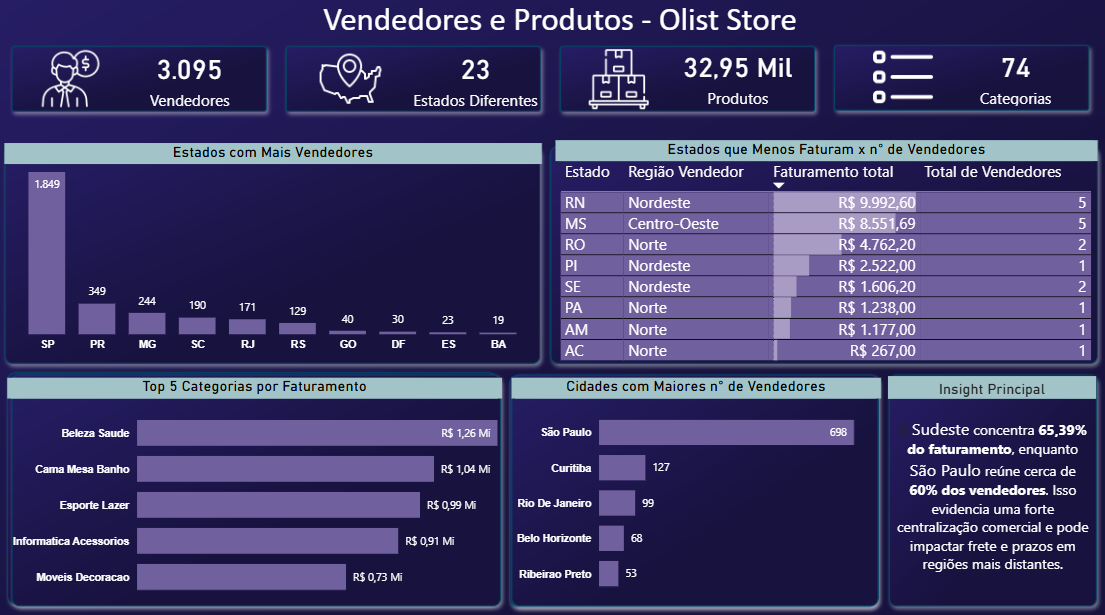

Layout of this report page (visuals, bound fields, positions):
{"tool":"powerbi","page":{"name":"Vendedores","canvas":[1280,720],"ordinal":2},"visuals":[{"type":"card","fields":{"Values":["Medidas.Total de Vendedores"]},"box":[137,52.1,179.5,84.9],"z":0},{"type":"card","fields":{"Values":["Medidas.Total de categorias"]},"box":[1076.8,52.1,177.5,79.1],"z":1000},{"type":"card","fields":{"Values":["Medidas.Total de produtos"]},"box":[760.3,54,179.5,77.2],"z":2000},{"type":"card","fields":{"Values":["Medidas.Estados vendedores"]},"box":[461.2,52.1,179.5,84.9],"z":3000},{"type":"image","box":[52.5,59.4,74.4,70],"z":4000},{"type":"image","box":[371.9,60.6,74.4,70],"z":5000},{"type":"image","box":[677.5,61.9,71.2,68.1],"z":6000},{"type":"image","box":[1002,63.3,71.3,68],"z":7000},{"type":"columnChart","title":"Estados com Mais Vendedores","fields":{"Y":["Medidas.Total de Vendedores"],"Category":["Vendedores.Estado"]},"box":[14.3,168.6,611.4,245.7],"z":8000},{"type":"barChart","title":"Top 5 Categorias por Faturamento","fields":{"Category":["categorias.Categoria"],"Y":["Medidas.Faturamento total"]},"box":[18.6,434.3,562.9,264.3],"z":9000},{"type":"textbox","box":[335.7,0,624.3,58.6],"z":10000},{"type":"barChart","title":"Cidades com Maiores n° de Vendedores","fields":{"Category":["Vendedores.Cidade"],"Y":["CountNonNull(Vendedores.ID Vendedor)"]},"box":[591.4,434.3,420,260],"z":11000},{"type":"tableEx","title":"Estados que Menos Faturam x n° de Vendedores","fields":{"Values":["Vendedores.Estado","Vendedores.Região Vendedor","Medidas.Faturamento total","Medidas.Total de Vendedores"]},"box":[641.7,165,616.7,265],"z":12000},{"type":"textbox","box":[1025.4,474.6,228.6,220.6],"z":13000},{"type":"shape","box":[1020,433.1,236.9,26.2],"z":14000},{"type":"textbox","box":[1020,433.3,236.7,31.7],"z":15000}]}

Visuals, with their boxes in screenshot pixels (x1, y1, x2, y2), scaled from the page's 1280x720 canvas onto the 1105x615 screenshot:
card - Medidas.Total de Vendedores: [left=118, top=45, right=273, bottom=117]
card - Medidas.Total de categorias: [left=930, top=45, right=1083, bottom=112]
card - Medidas.Total de produtos: [left=656, top=46, right=811, bottom=112]
card - Medidas.Estados vendedores: [left=398, top=45, right=553, bottom=117]
image: [left=45, top=51, right=110, bottom=111]
image: [left=321, top=52, right=385, bottom=112]
image: [left=585, top=53, right=646, bottom=111]
image: [left=865, top=54, right=927, bottom=112]
"Estados com Mais Vendedores" columnChart: [left=12, top=144, right=540, bottom=354]
"Top 5 Categorias por Faturamento" barChart: [left=16, top=371, right=502, bottom=597]
textbox: [left=290, top=0, right=829, bottom=50]
"Cidades com Maiores n° de Vendedores" barChart: [left=511, top=371, right=873, bottom=593]
"Estados que Menos Faturam x n° de Vendedores" tableEx: [left=554, top=141, right=1086, bottom=367]
textbox: [left=885, top=405, right=1083, bottom=594]
shape: [left=881, top=370, right=1085, bottom=392]
textbox: [left=881, top=370, right=1085, bottom=397]
